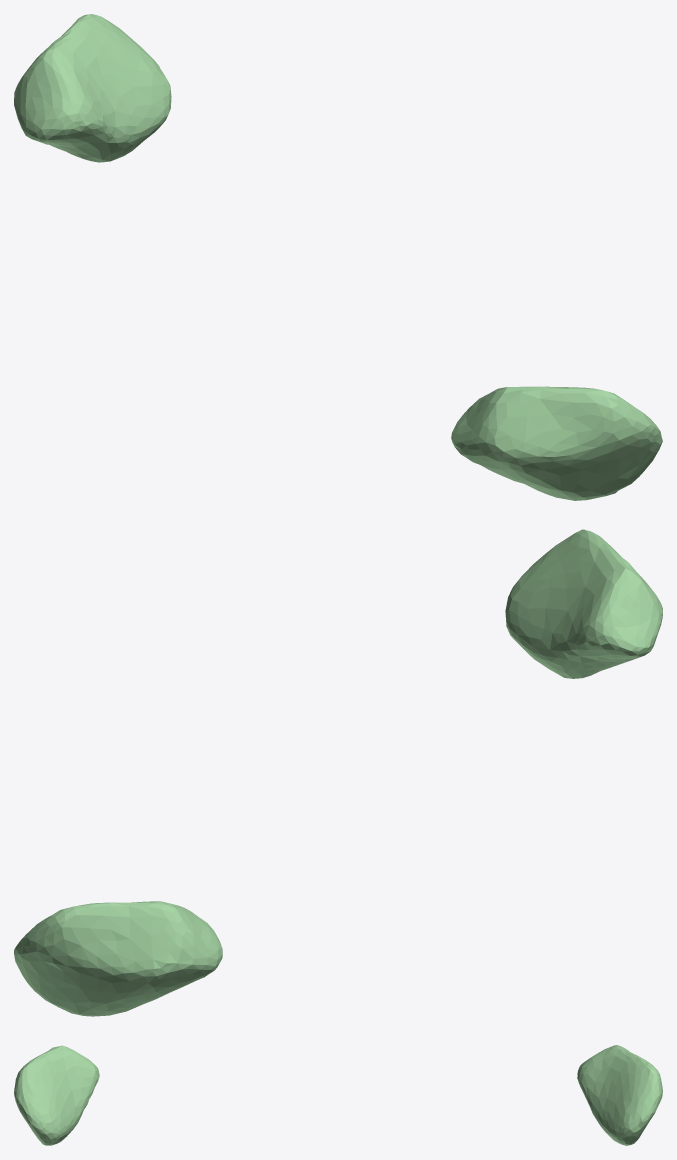
The picture shows the model from 3 angles, top to bottom: view 1: azimuth 30°, elevation 25°; view 2: azimuth 150°, elevation 25°; view 3: azimuth 270°, elevation 25°; orthographic projection. The views are drawn at different scales.
Parts seen in each view (by area): view 1: 334.obj; view 2: 334.obj; view 3: 334.obj.
Part boxes in pixels (bbox=[...]): 334.obj: bbox=[14, 14, 662, 500]; 334.obj: bbox=[14, 529, 662, 1016]; 334.obj: bbox=[14, 1045, 662, 1145].
Bounding box in the file's own units: 1273 × 912 × 6877.
